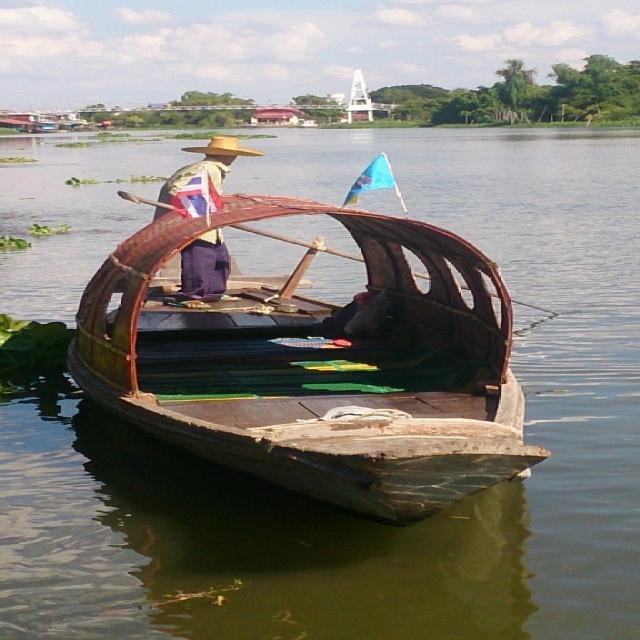Hyacinth: (0, 304, 58, 392), (65, 162, 199, 194), (1, 142, 44, 178), (29, 212, 71, 248), (324, 118, 426, 131), (171, 132, 276, 144), (2, 228, 30, 258), (88, 127, 133, 143), (55, 139, 102, 151)
boat: (84, 176, 552, 530)
